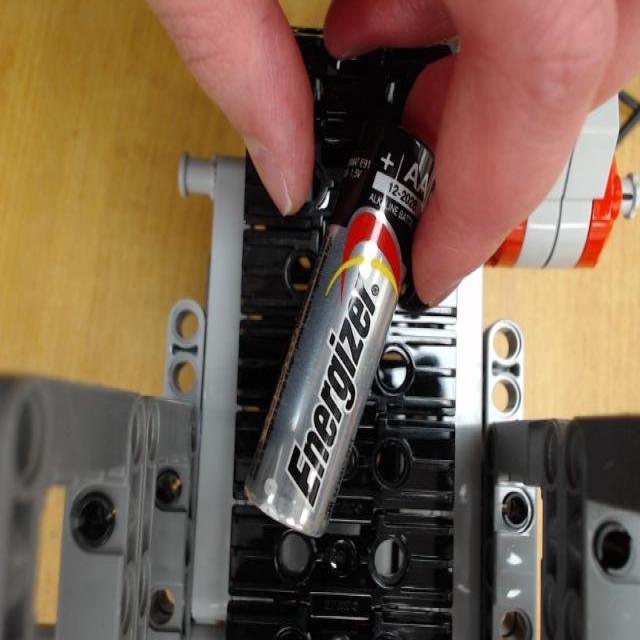AA: (241, 113, 448, 547)
